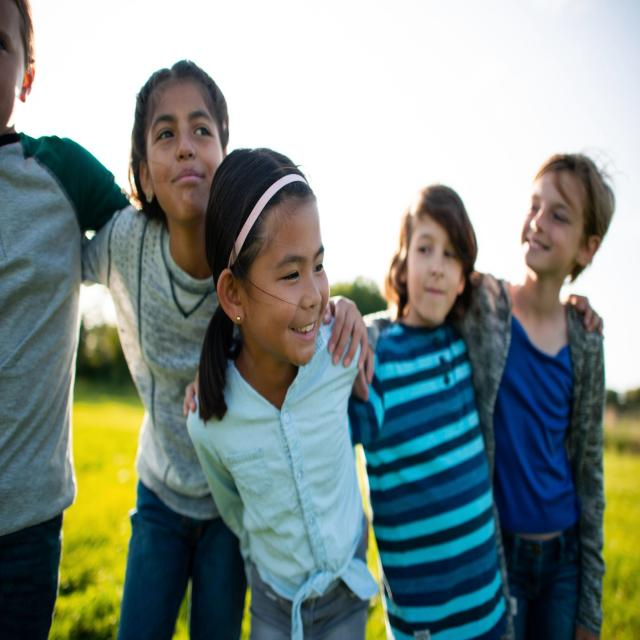child: (86, 59, 249, 640), (186, 147, 371, 640), (0, 0, 132, 640), (465, 153, 615, 640), (350, 183, 505, 640)
